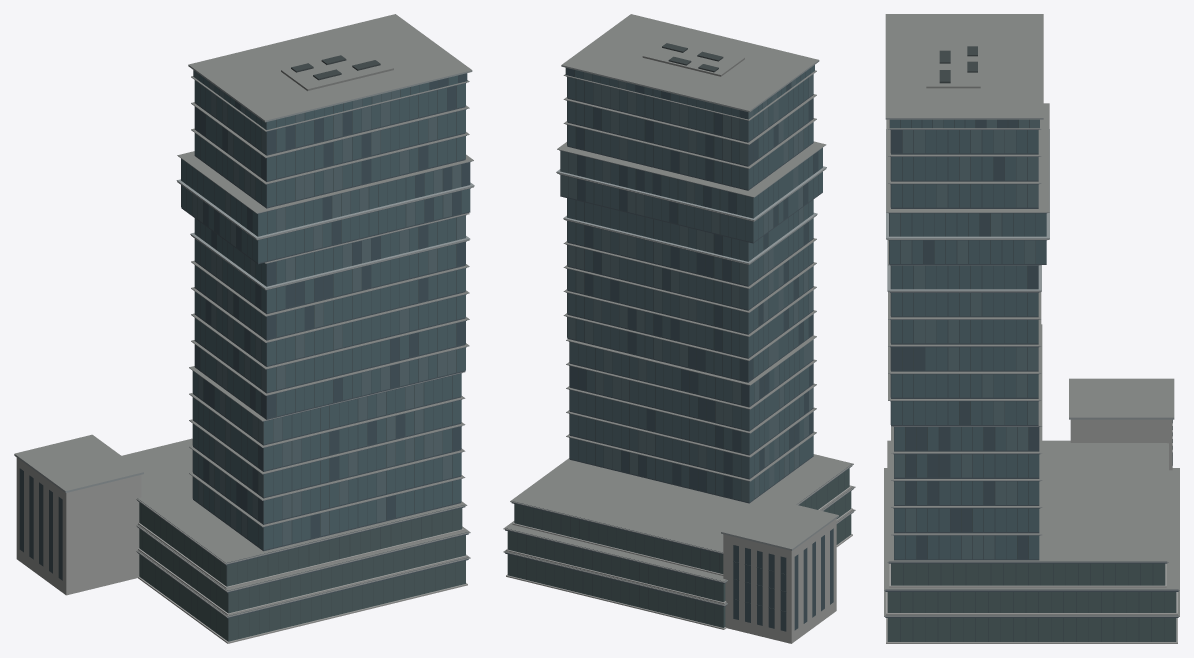
Rendered from rear-glass-office-photo-v1.glb.
The picture shows the model from 3 angles, left to right: view 1: azimuth 30°, elevation 25°; view 2: azimuth 150°, elevation 25°; view 3: azimuth 270°, elevation 25°; orthographic projection. The views are drawn at different scales.
Parts seen in each view (by area): view 1: 深灰蓝幕墙、竖向分格与低楼窗带, 办公塔楼水平层线与错层裙楼, 窗台横梁与屋顶设备; view 2: 深灰蓝幕墙、竖向分格与低楼窗带, 办公塔楼水平层线与错层裙楼, 窗台横梁与屋顶设备; view 3: 深灰蓝幕墙、竖向分格与低楼窗带, 办公塔楼水平层线与错层裙楼, 窗台横梁与屋顶设备.
Boxes of the visible parts, box(x1,y1,x2,y2) form: 深灰蓝幕墙、竖向分格与低楼窗带: box(19, 70, 470, 641); 办公塔楼水平层线与错层裙楼: box(14, 14, 474, 643); 窗台横梁与屋顶设备: box(281, 49, 393, 90); 深灰蓝幕墙、竖向分格与低楼窗带: box(507, 65, 851, 631); 办公塔楼水平层线与错层裙楼: box(503, 14, 855, 643); 窗台横梁与屋顶设备: box(642, 38, 786, 612); 深灰蓝幕墙、竖向分格与低楼窗带: box(887, 119, 1176, 641); 办公塔楼水平层线与错层裙楼: box(884, 14, 1179, 643); 窗台横梁与屋顶设备: box(926, 43, 1172, 465).
Size of the model in its own units: 38.55 by 59.53 by 30.04.
